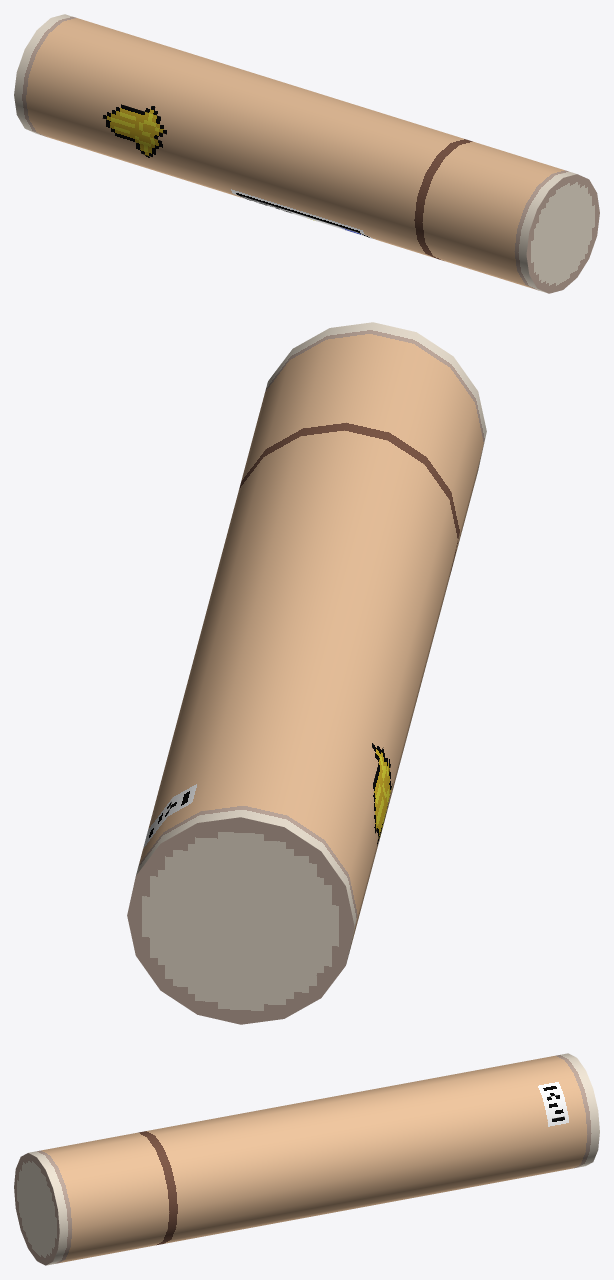
The model's file is TubeLarge.glb.
The picture shows the model from 3 angles, top to bottom: view 1: azimuth 30°, elevation 25°; view 2: azimuth 150°, elevation 25°; view 3: azimuth 270°, elevation 25°; orthographic projection. The views are drawn at different scales.
Visible parts, largest first — view 1: TubePackageLarge; view 2: TubePackageLarge; view 3: TubePackageLarge.
Part boxes in pixels (x1,y1,x2,y2): TubePackageLarge: [14, 14, 599, 293]; TubePackageLarge: [127, 322, 486, 1024]; TubePackageLarge: [14, 1053, 599, 1265].
Size of the model in its own units: 0.8667 by 0.2914 by 1.49.
1 material, 1 textured.
